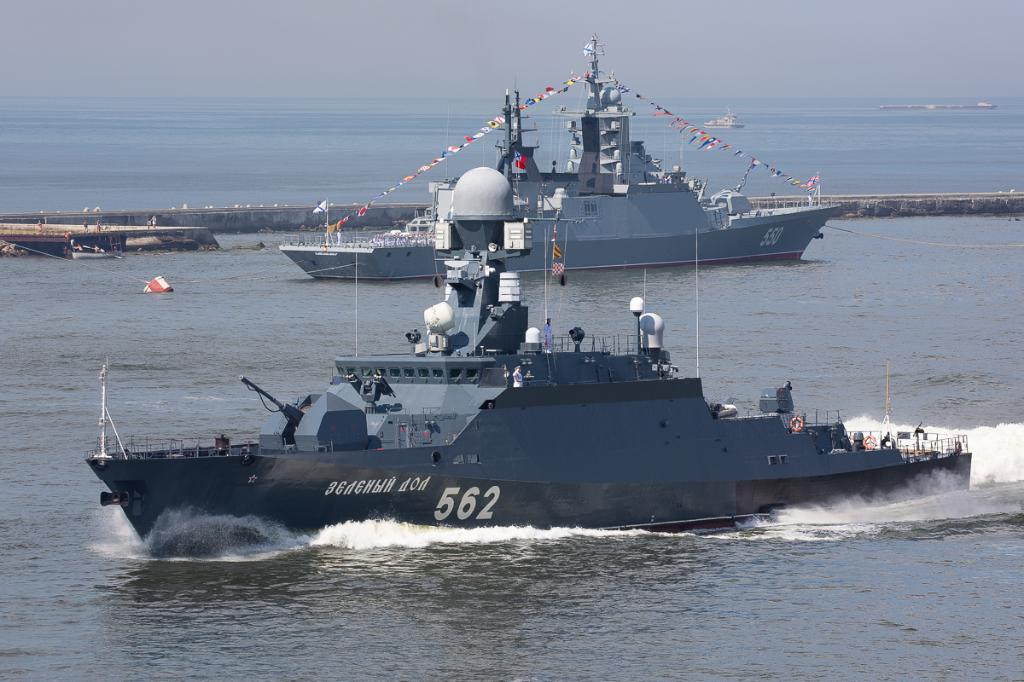Warship: (78, 144, 976, 562), (276, 24, 854, 288)
